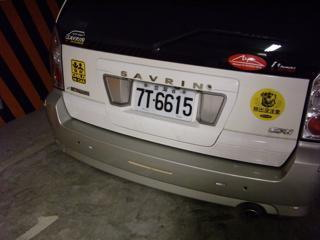plate: (131, 79, 194, 122)
